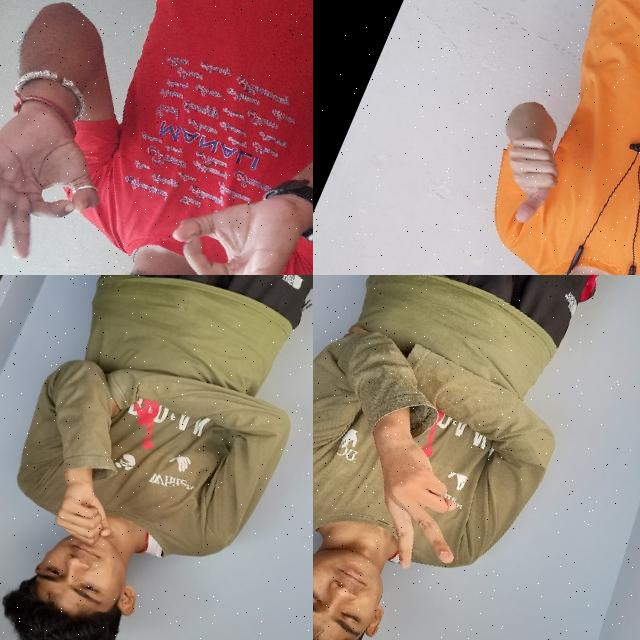Fist Mouth: (0, 431, 209, 640)
Okay: (0, 76, 131, 275), (129, 162, 313, 275)
Reversed Victory: (342, 420, 498, 590)
Thumbs Up: (477, 117, 582, 235)
